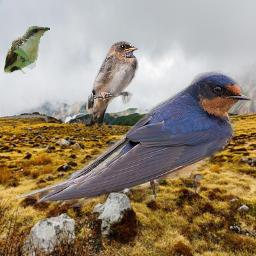Cuckoo: (3, 26, 50, 74)
Swallow: (13, 70, 253, 207), (83, 40, 139, 128)
